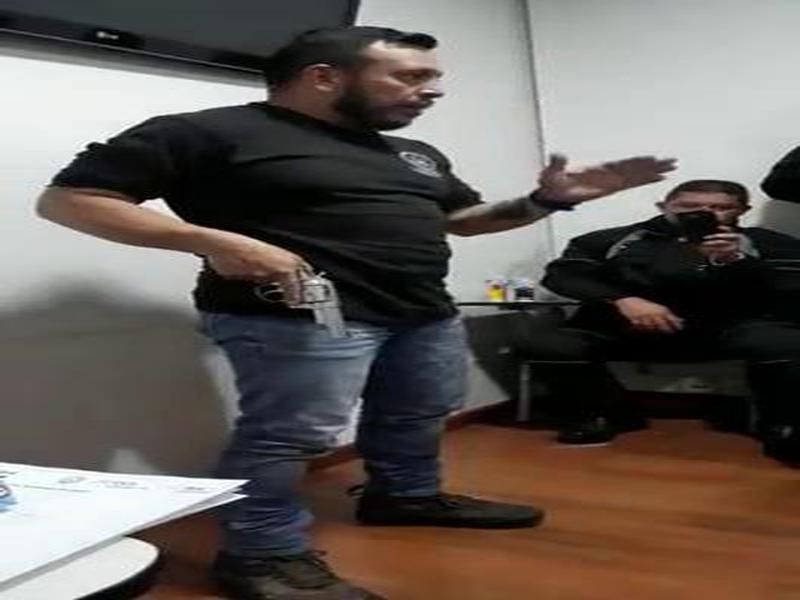Revolver: (256, 263, 352, 348)
